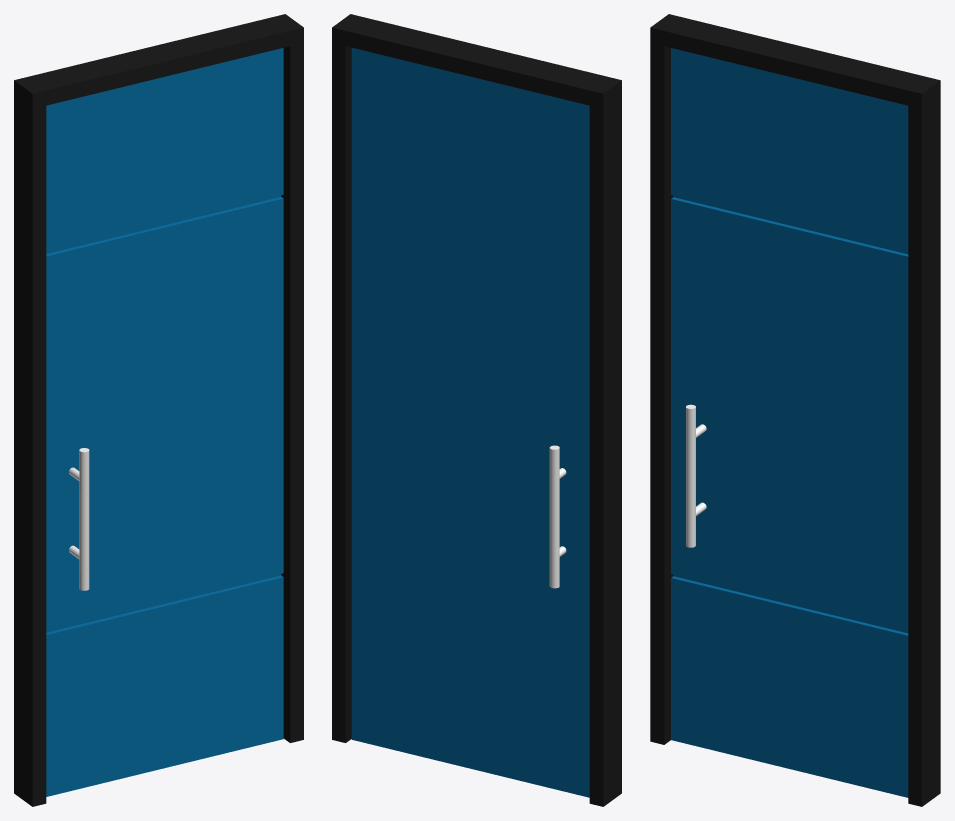
Rendered from Door 3.fbx.
3 views of the same model, side by side, from view 1: azimuth 30°, elevation 25°; view 2: azimuth 150°, elevation 25°; view 3: azimuth 330°, elevation 25° (orthographic).
Visible parts, largest first — view 1: Door 3, door frame 3; view 2: Door 3, door frame 3; view 3: Door 3, door frame 3.
Boxes of the visible parts, x1,y1,x2,y2 form: Door 3: [46, 48, 283, 796]; door frame 3: [14, 14, 303, 806]; Door 3: [351, 47, 589, 797]; door frame 3: [332, 14, 621, 806]; Door 3: [671, 48, 908, 797]; door frame 3: [650, 14, 940, 806].
Bounding box in the file's own units: 129 × 323 × 25.89.
